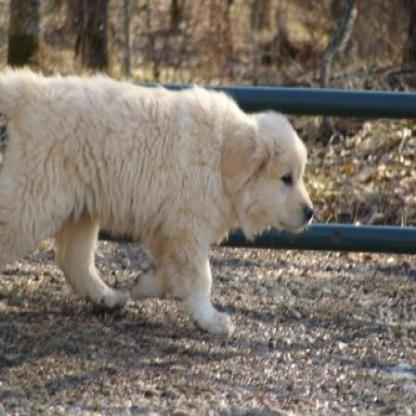Great_Pyrenees: (0, 61, 314, 336)
